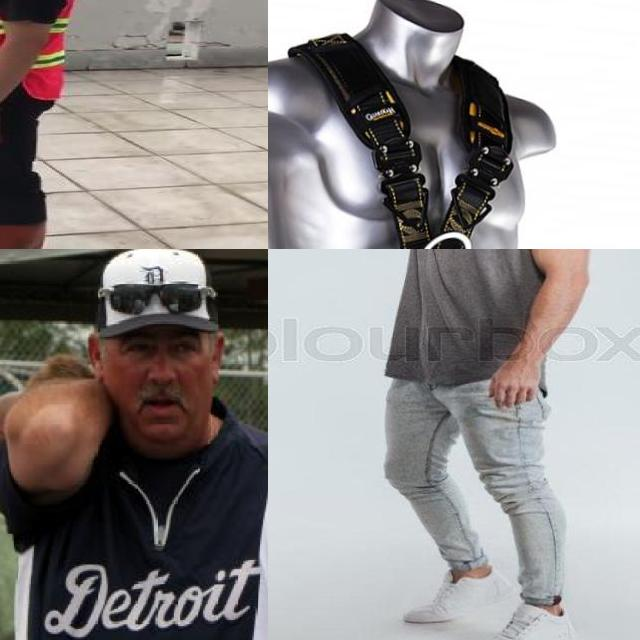Harness: (290, 34, 514, 249)
face_nomask: (110, 331, 206, 427)
glasses: (98, 273, 219, 316)
hand_noglove: (483, 331, 552, 414)
head_nohelmet: (90, 252, 227, 341)
person: (299, 249, 595, 640), (15, 249, 268, 640), (0, 0, 84, 249)
vest: (0, 0, 78, 100)
